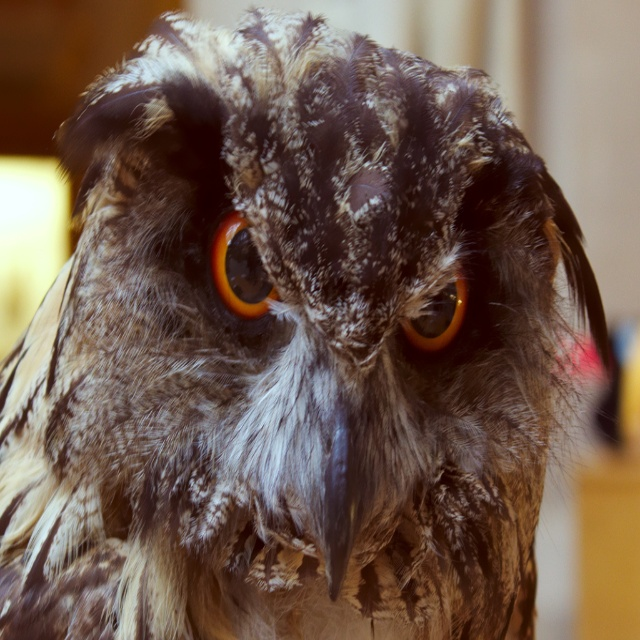Owl: (0, 14, 630, 639)
